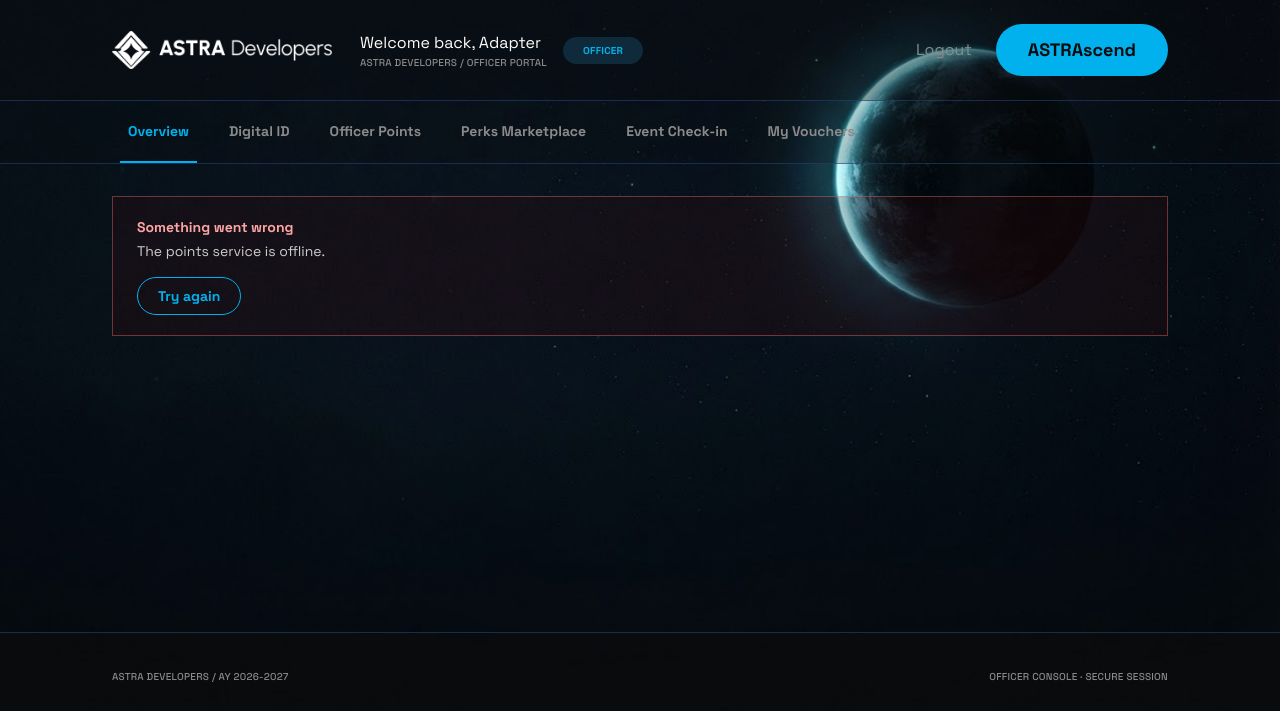
replacing the data adapter › retries the overview after an error
Expected: the message shows "The points service is offline.", [137, 242, 325, 260]
Click the button "Try again".
click(189, 296)  # box [137, 277, 241, 315]
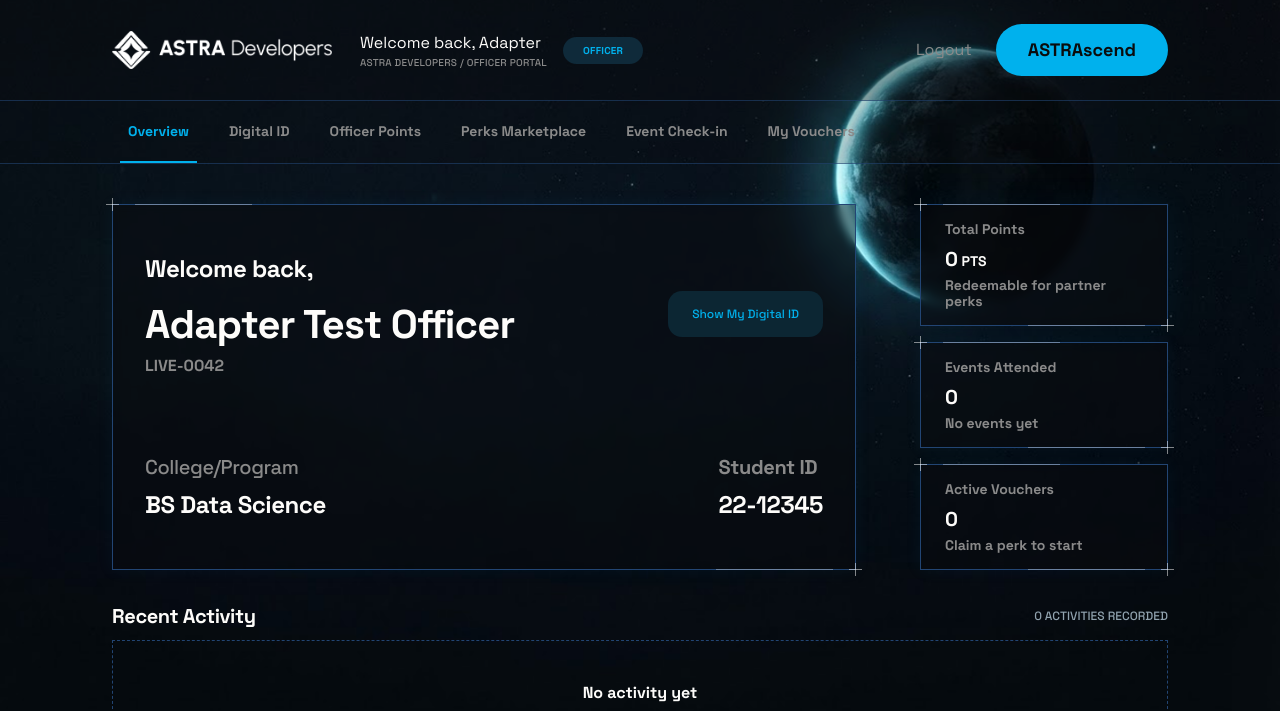
Now the heading "Adapter Test Officer" is shown, box [145, 299, 514, 350]
